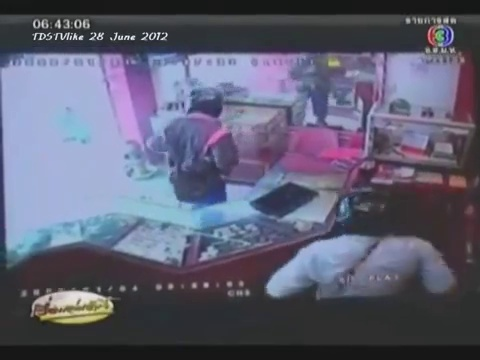helmet: (337, 192, 405, 231), (180, 86, 222, 115)
